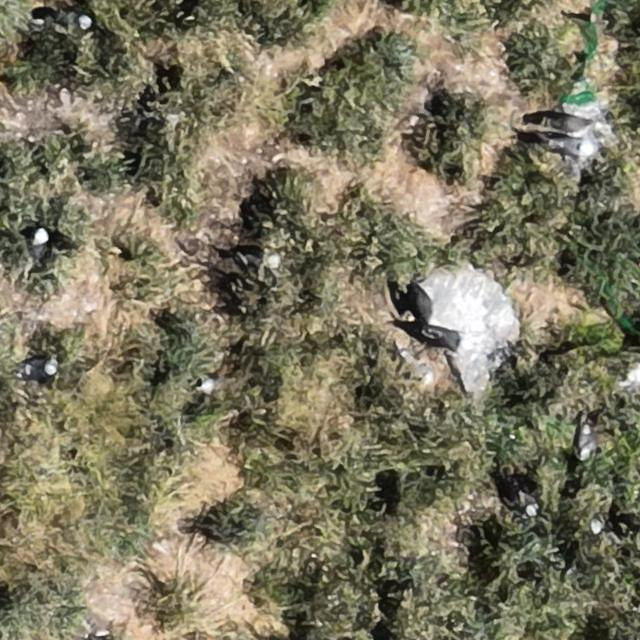umineko: (415, 324, 474, 355), (508, 478, 538, 518), (549, 134, 592, 156), (48, 10, 91, 29), (20, 359, 56, 378), (578, 424, 595, 457), (31, 228, 47, 258), (200, 376, 220, 391)
